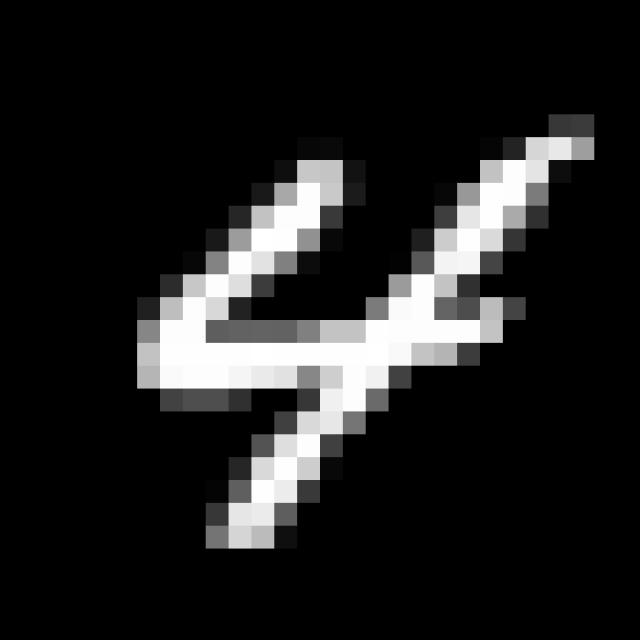four -4-: (122, 117, 608, 568)
